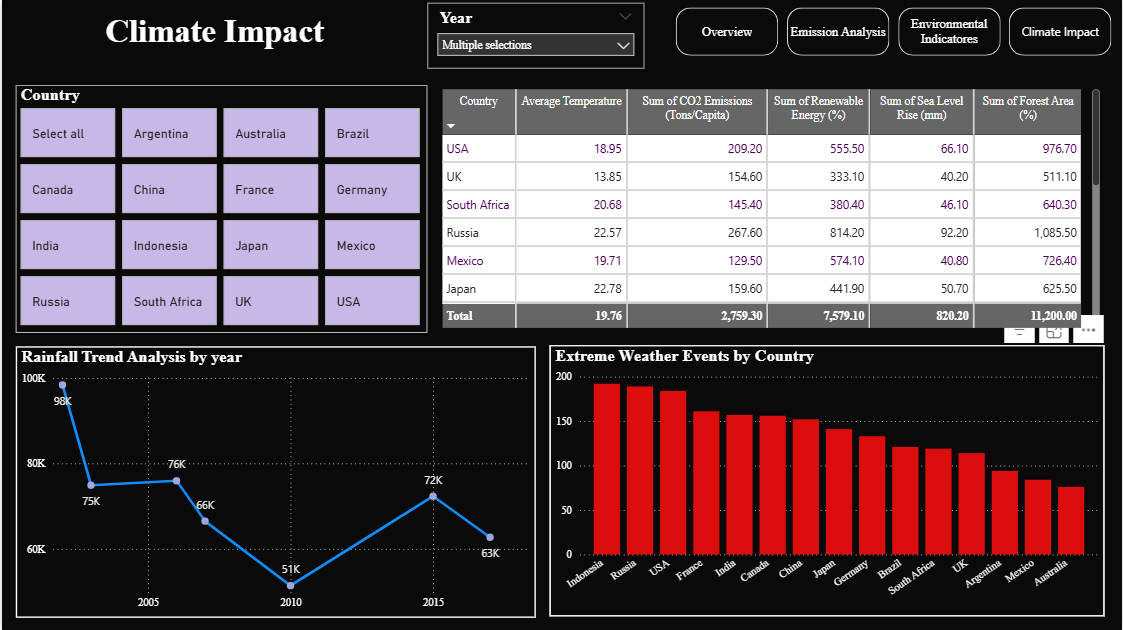

The page's visual inventory and layout, read from the dashboard file:
{"tool":"powerbi","page":{"name":"Climate Impact","canvas":[1280,720],"ordinal":3},"visuals":[{"type":"textbox","box":[0,8.6,485.7,62.9],"z":0},{"type":"columnChart","title":"Extreme Weather Events by Country","fields":{"Category":["climate_change_dataset.Country"],"Y":["Sum(climate_change_dataset.Extreme Weather Events)"]},"box":[625.7,394.3,634.3,310],"z":1000},{"type":"areaChart","title":"Rainfall Trend Analysis by year","fields":{"Category":["climate_change_dataset.Year"],"Y":["Sum(climate_change_dataset.Rainfall (mm))"]},"box":[15.7,395.7,594.3,310],"z":2000},{"type":"tableEx","fields":{"Values":["climate_change_dataset.Country","climate_change_dataset.Average Temperature","Sum(climate_change_dataset.CO2 Emissions (Tons/Capita))","Sum(climate_change_dataset.Renewable Energy (%))","Sum(climate_change_dataset.Sea Level Rise (mm))","Sum(climate_change_dataset.Forest Area (%))"]},"box":[497.1,97.1,762.9,282.9],"z":3000},{"type":"pageNavigator","box":[769.3,8.6,500.6,55.2],"z":4001},{"type":"slicer","fields":{"Values":["climate_change_dataset.Year"]},"box":[485.7,2.9,248.6,75.7],"z":4002},{"type":"advancedSlicerVisual","fields":{"Values":["climate_change_dataset.Country"]},"box":[15.7,97.1,470,282.9],"z":4003}]}

Visuals, with their boxes in screenshot pixels (x1, y1, x2, y2), scaled from the page's 1280x720 canvas onto the 1123x630 screenshot:
textbox: crop(0, 8, 426, 63)
"Extreme Weather Events by Country" columnChart: crop(549, 345, 1105, 616)
"Rainfall Trend Analysis by year" areaChart: crop(14, 346, 535, 617)
tableEx - climate_change_dataset.Country x climate_change_dataset.Average Temperature: crop(436, 85, 1105, 332)
pageNavigator: crop(675, 8, 1114, 56)
slicer - climate_change_dataset.Year: crop(426, 3, 644, 69)
advancedSlicerVisual - climate_change_dataset.Country: crop(14, 85, 426, 332)
